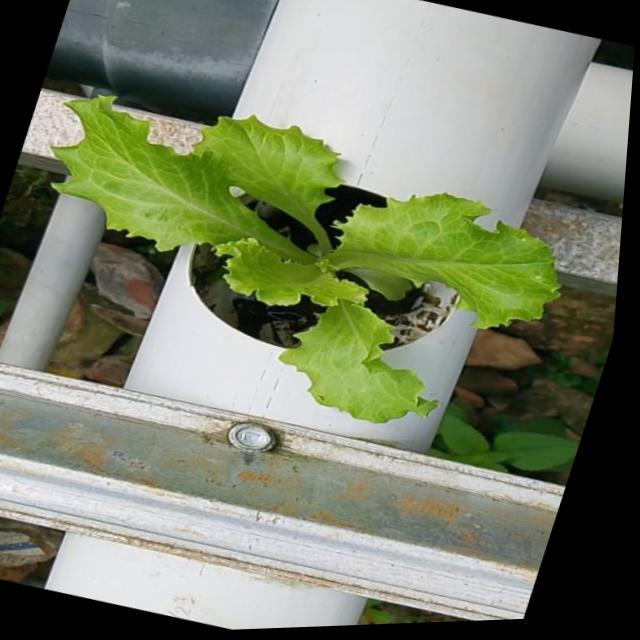Baby: (55, 102, 563, 428)
